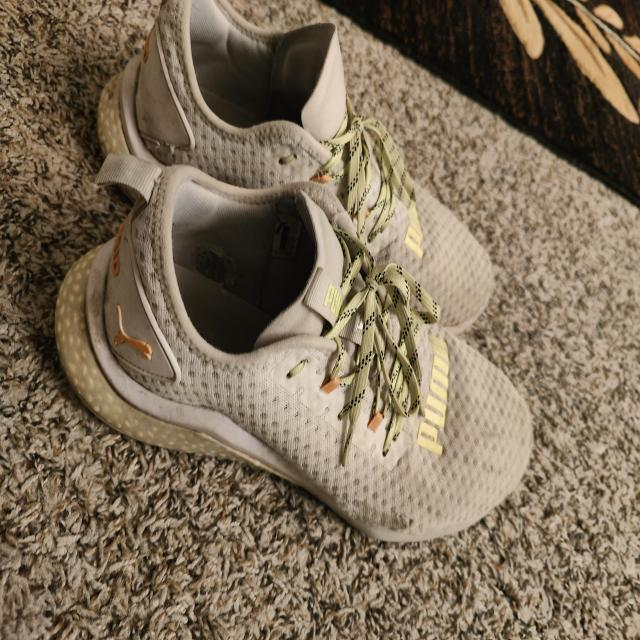white shoes: (59, 3, 530, 542)
